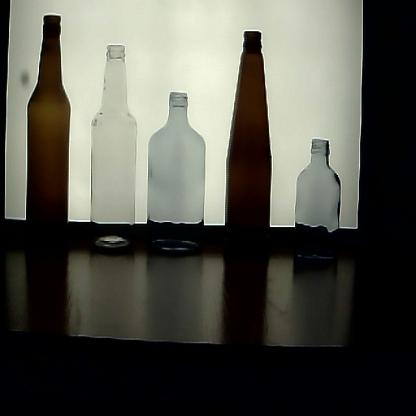Can: (21, 11, 74, 262), (221, 28, 274, 266), (85, 42, 139, 263), (143, 90, 208, 260), (291, 136, 344, 264)
